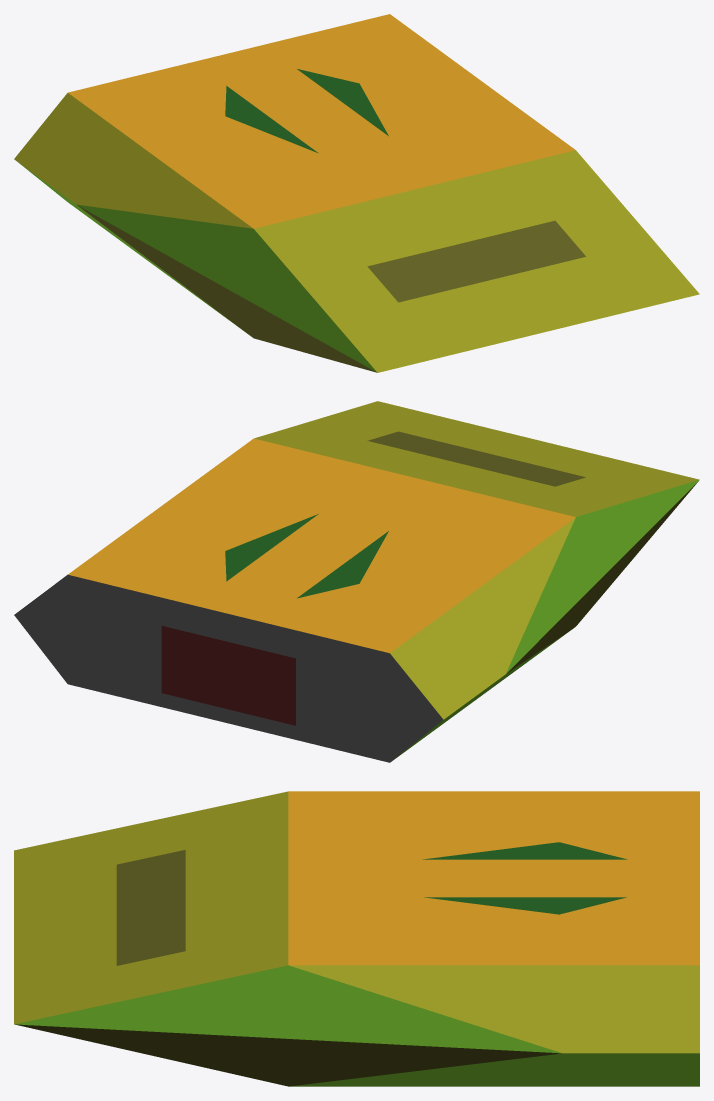
Rendered from arc_adder.glb.
3 renders of one model, top to bottom at view 1: azimuth 30°, elevation 25°; view 2: azimuth 150°, elevation 25°; view 3: azimuth 270°, elevation 25°, orthographic. The views are drawn at different scales.
Parts seen in each view (by area): view 1: griff_arcelite_adder; view 2: griff_arcelite_adder, griff_arcelite_adder.001; view 3: griff_arcelite_adder.
Part boxes in pixels (x1,y1,x2,y2): griff_arcelite_adder: [14, 14, 699, 372]; griff_arcelite_adder: [14, 401, 699, 762]; griff_arcelite_adder.001: [161, 626, 295, 725]; griff_arcelite_adder: [14, 791, 699, 1086].
Bounding box in the file's own units: 0.4 × 0.0975 × 0.5.
1 material, 1 textured.
